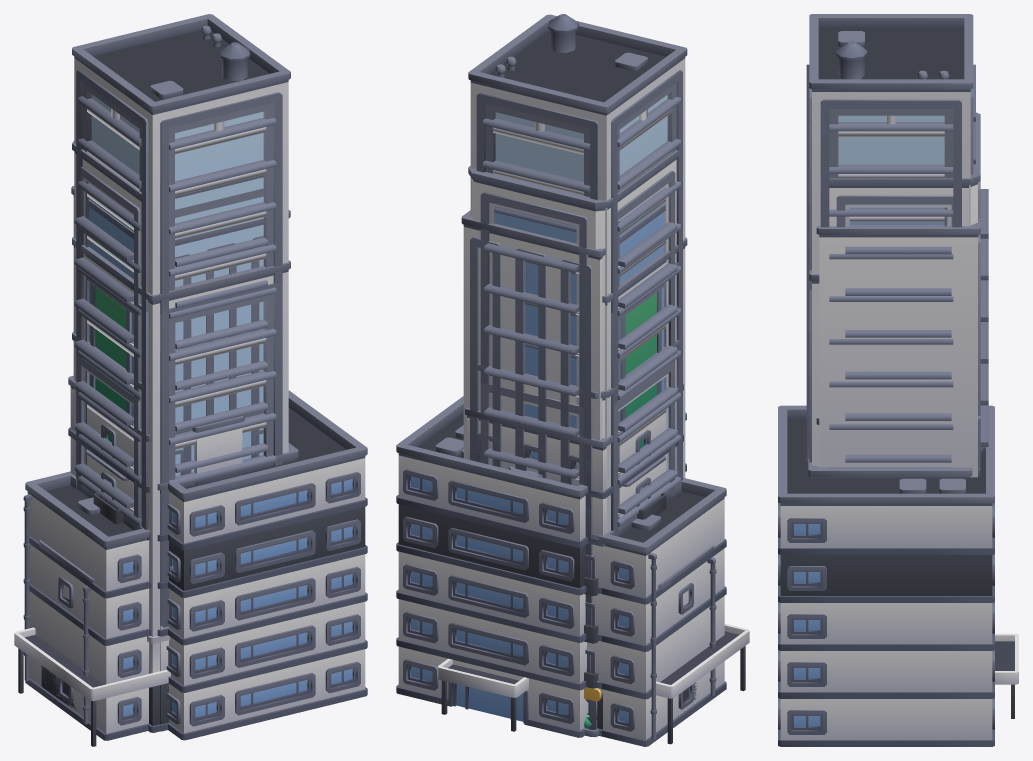
The model's file is city.glb.
3 views of the same model, side by side, from view 1: azimuth 30°, elevation 25°; view 2: azimuth 150°, elevation 25°; view 3: azimuth 270°, elevation 25° (orthographic).
Parts seen in each view (by area): view 1: building-n, building-skyscraper-d, building-j, building-skyscraper-c, building-skyscraper-b, building-skyscraper-e, building-skyscraper-a, building-k, building-m, building-l; view 2: building-n, building-skyscraper-d, building-skyscraper-b, building-j, building-skyscraper-e, building-m, building-skyscraper-a, building-skyscraper-c, building-k, building-i; view 3: building-n, building-skyscraper-d, building-skyscraper-e, building-skyscraper-b, building-skyscraper-c, building-l, building-skyscraper-a.
Part boxes in pixels (x1,y1,x2,y2): building-n: [14, 390, 367, 746]; building-skyscraper-d: [72, 14, 290, 731]; building-j: [23, 471, 149, 740]; building-skyscraper-c: [72, 237, 290, 732]; building-skyscraper-b: [72, 140, 267, 518]; building-skyscraper-e: [71, 186, 290, 480]; building-skyscraper-a: [72, 331, 267, 530]; building-k: [39, 540, 95, 727]; building-m: [68, 375, 263, 629]; building-l: [93, 443, 298, 731]; building-n: [396, 396, 749, 744]; building-skyscraper-d: [468, 14, 687, 530]; building-skyscraper-b: [468, 150, 678, 730]; building-j: [583, 478, 726, 746]; building-skyscraper-e: [461, 204, 665, 729]; building-m: [464, 383, 683, 736]; building-skyscraper-a: [477, 339, 680, 729]; building-skyscraper-c: [525, 237, 687, 532]; building-k: [657, 545, 716, 735]; building-i: [584, 477, 684, 729]; building-n: [778, 405, 1018, 746]; building-skyscraper-d: [806, 14, 975, 467]; building-skyscraper-e: [816, 218, 980, 477]; building-skyscraper-b: [808, 112, 988, 462]; building-skyscraper-c: [806, 270, 953, 468]; building-l: [808, 447, 985, 479]; building-skyscraper-a: [808, 368, 988, 457].
Bounding box in the file's own units: 9.28 × 22.04 × 7.28.
26 materials, 3 textured.
